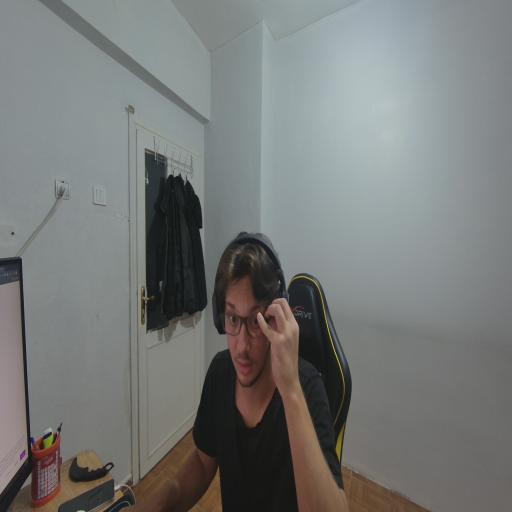cuma-face-v2: (214, 237, 316, 421)
